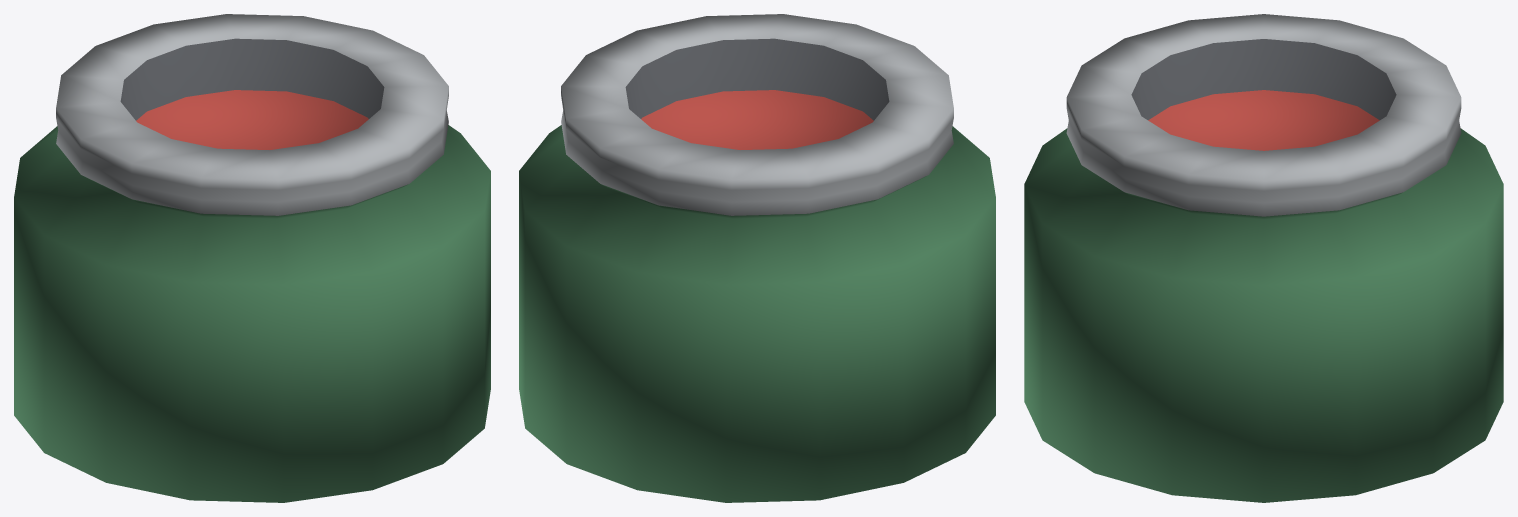
The model's file is jam_jar.glb.
3 views of the same model, side by side, from view 1: azimuth 30°, elevation 25°; view 2: azimuth 150°, elevation 25°; view 3: azimuth 270°, elevation 25° (orthographic).
Parts seen in each view (by area): view 1: jam_jar; view 2: jam_jar; view 3: jam_jar.
Part boxes in pixels (left/top/right/bottom): jam_jar: left=14, top=14, right=490, bottom=502; jam_jar: left=519, top=14, right=995, bottom=502; jam_jar: left=1024, top=14, right=1503, bottom=502.
Size of the model in its own units: 0.17 by 0.12 by 0.17.
